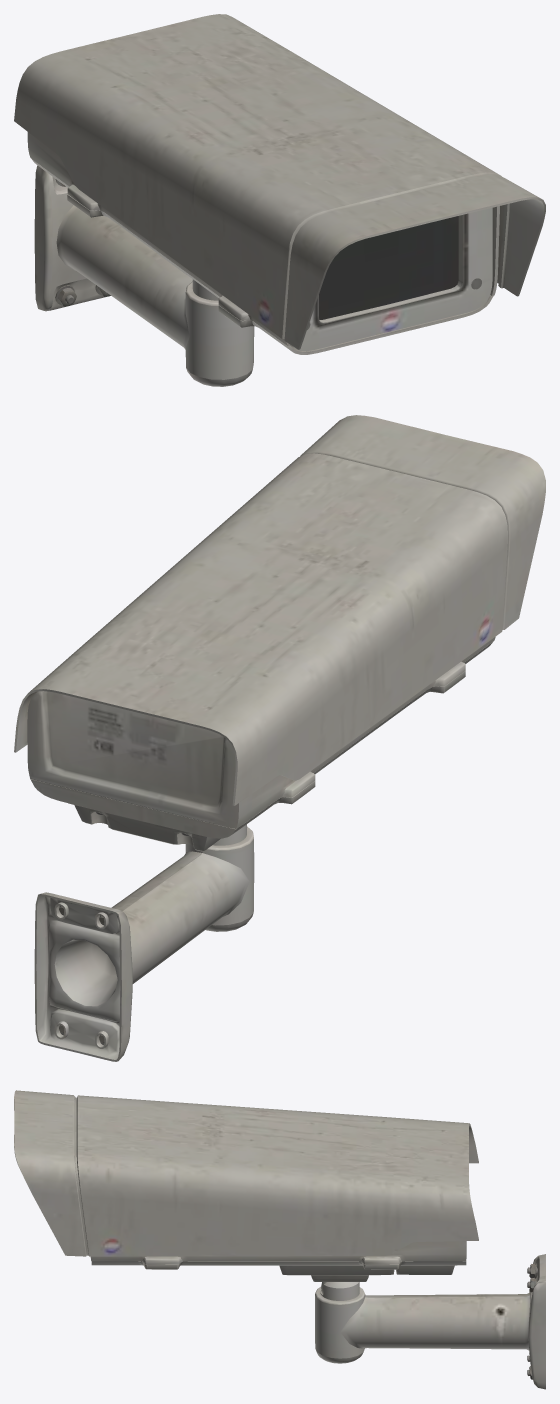
File: securityCamera.glb
3 renders of one model, top to bottom at view 1: azimuth 30°, elevation 25°; view 2: azimuth 150°, elevation 25°; view 3: azimuth 270°, elevation 25°, orthographic. The views are drawn at different scales.
Visible parts, largest first — view 1: security_camera_02_mount, security_camera_02; view 2: security_camera_02_mount; view 3: security_camera_02_mount.
Boxes of the visible parts, x1=… form: security_camera_02_mount: x1=14, y1=14, x2=545, y2=386; security_camera_02: x1=319, y1=216, x2=458, y2=319; security_camera_02_mount: x1=14, y1=415, x2=545, y2=1061; security_camera_02_mount: x1=14, y1=1090, x2=545, y2=1389.
Size of the model in its own units: 0.1407 by 0.2086 by 0.3938.
2 materials, 2 textured.
